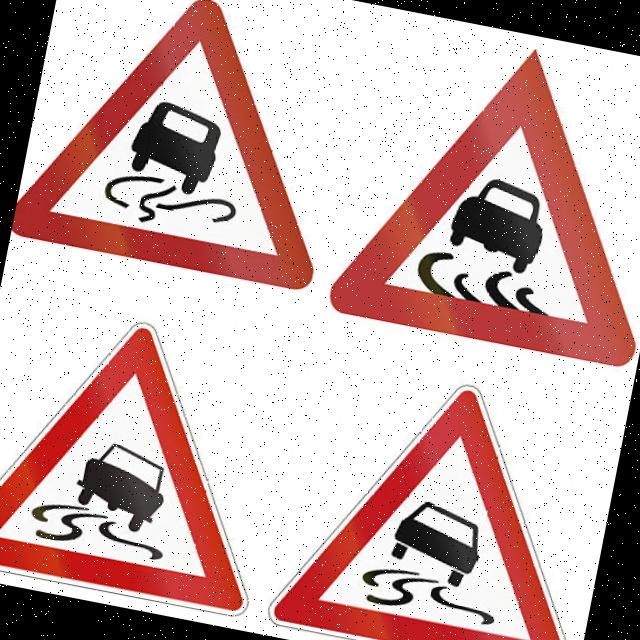road_slippery: (257, 346, 626, 640), (10, 0, 365, 294), (0, 286, 300, 620)
